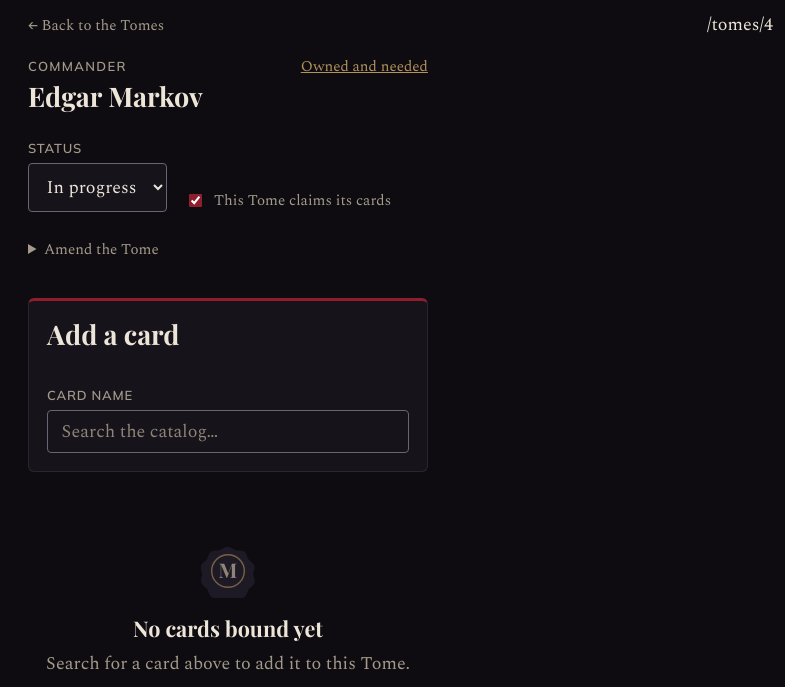
Test: TomeEditorPage › saves a claims toggle at once
This screenshot has width=785, height=687.
Click the checkbox labelled "This Tome claims its cards" at (196, 201), box [189,194,202,207]
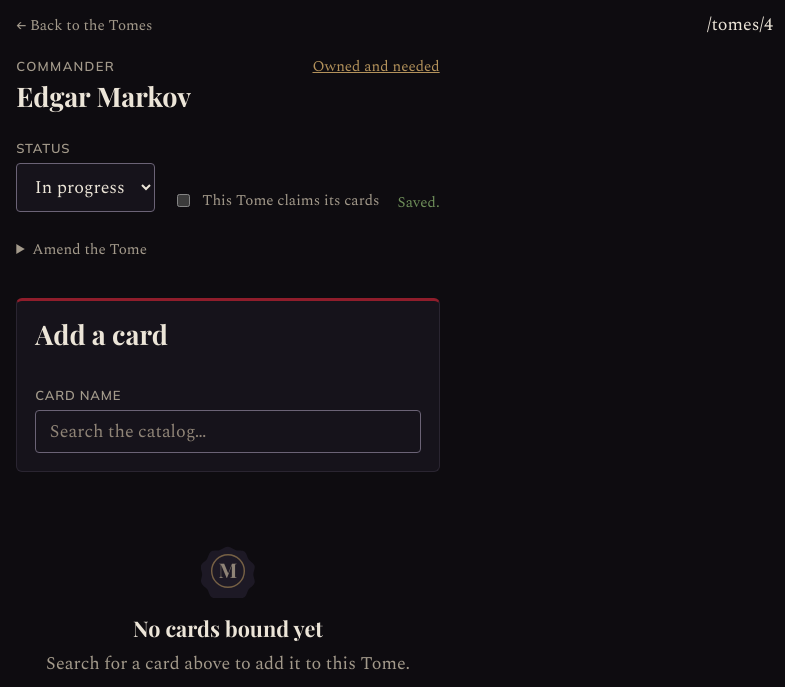
Expected: the text "Saved." is shown, [398,192,440,212]
